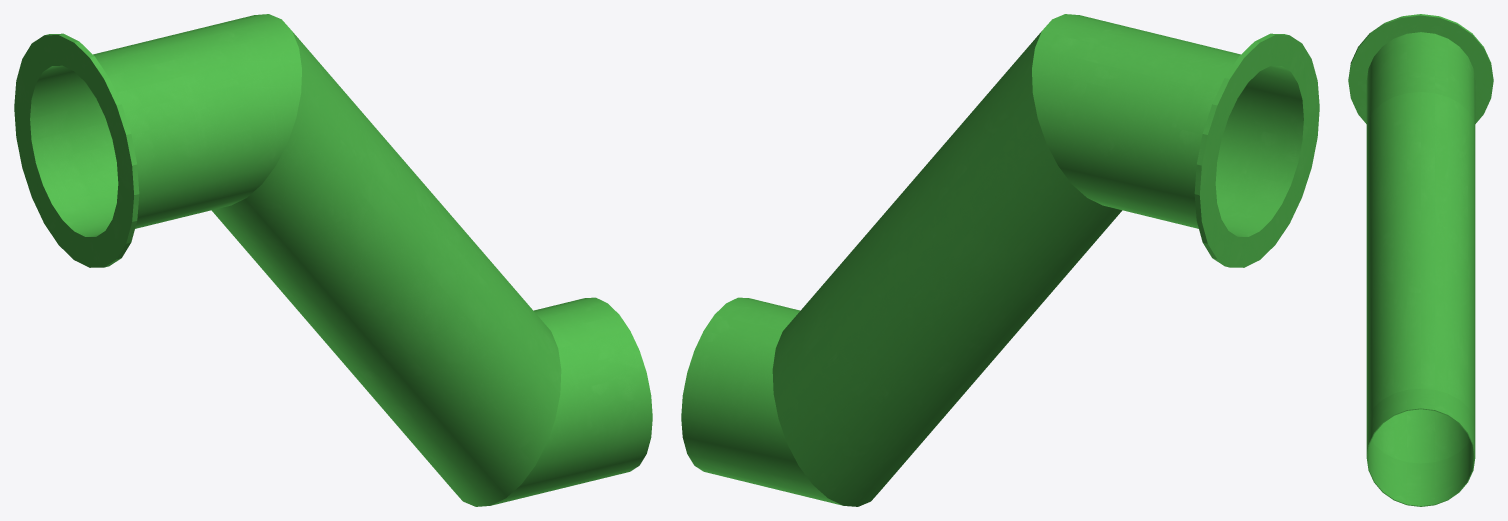
File: 19_5ft_tube_slide.glb
3 renders of one model, left to right at view 1: azimuth 30°, elevation 25°; view 2: azimuth 150°, elevation 25°; view 3: azimuth 270°, elevation 25°, orthographic. The views are drawn at different scales.
Parts seen in each view (by area): view 1: Geom3D_; view 2: Geom3D_; view 3: Geom3D_.
Boxes of the visible parts, box(x1,y1,x2,y2) form: Geom3D_: box(14, 14, 652, 506); Geom3D_: box(681, 14, 1319, 506); Geom3D_: box(1348, 14, 1493, 506).
Bounding box in the file's own units: 2.06 × 2.04 × 0.8017.
1 material, 1 textured.
